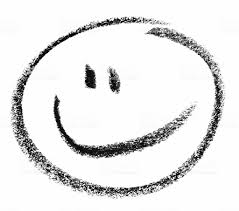feliz: (35, 58, 198, 158)
